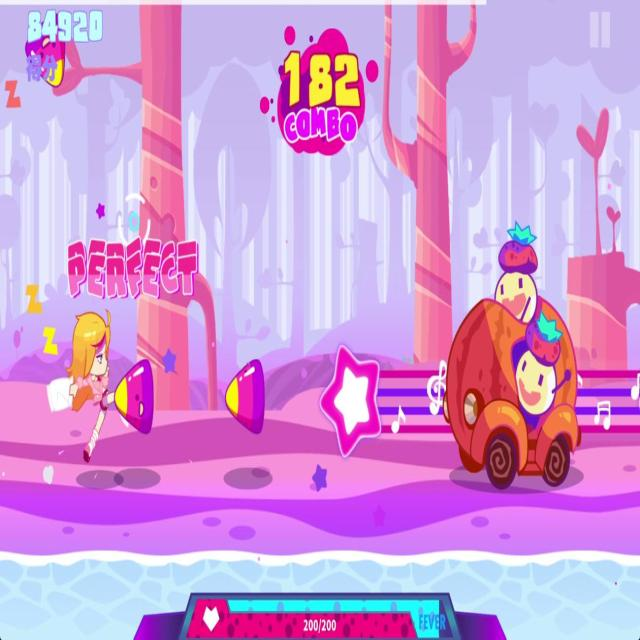cheboss: (439, 216, 584, 494)
hold: (320, 337, 640, 464)
jian: (112, 353, 156, 440), (222, 352, 267, 437), (24, 8, 68, 94)
